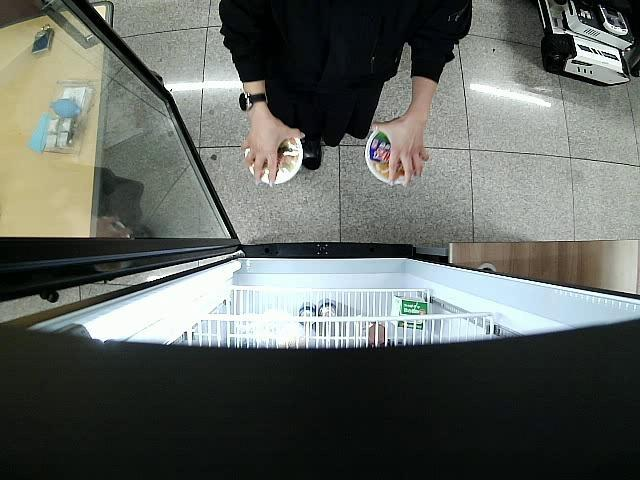09_yukGaeJang: (365, 129, 416, 185), (245, 137, 303, 185)
